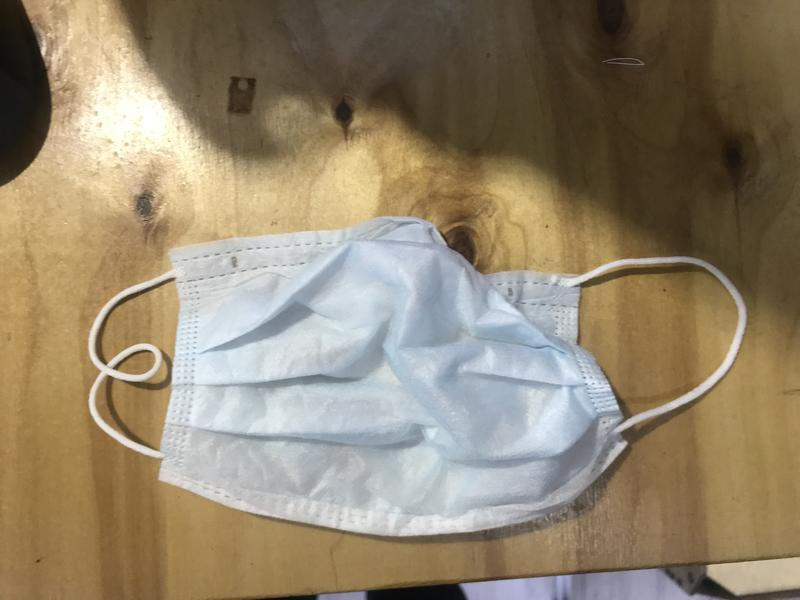medical_mask: (87, 219, 748, 540)
